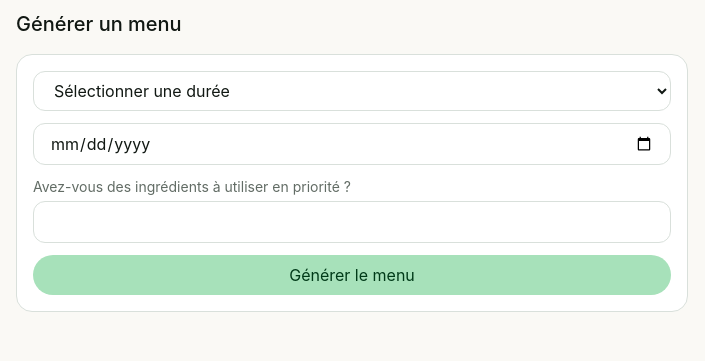
Test: affiche une erreur si la génération échoue
Select "Pour une journée" in the dropdown at (352, 91), box [33,71,671,111]
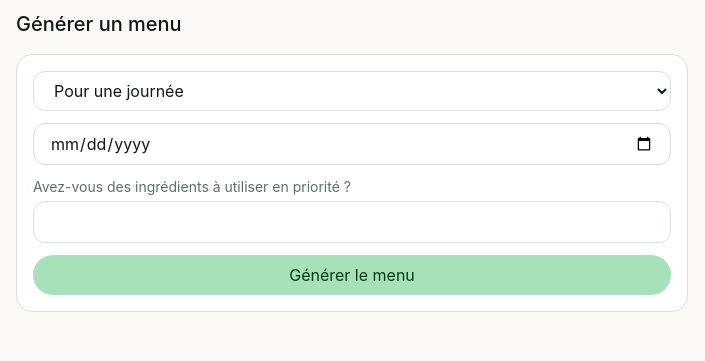
Click the button "Générer le menu" at (352, 275), box [33,255,671,295]
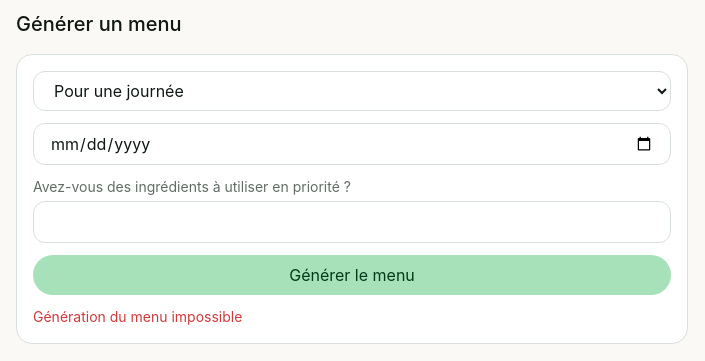
Expected: the text "Génération du menu impossible" is shown, [33,308,242,325]
